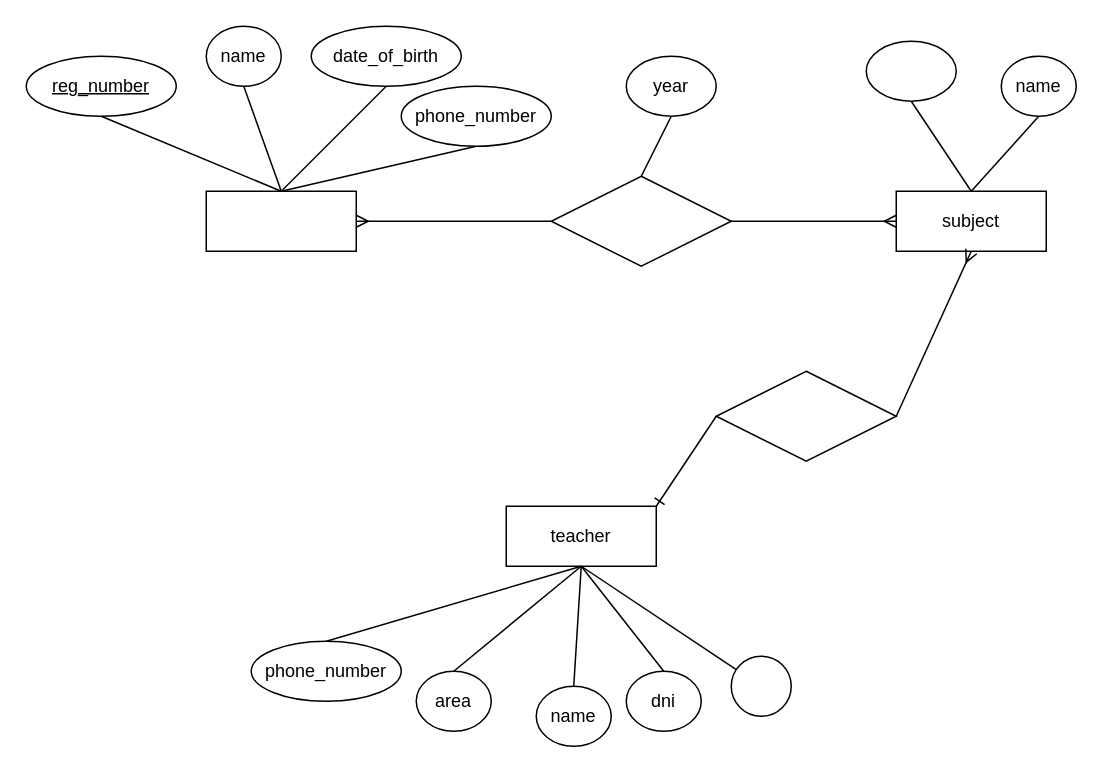
Image size: 1103x773. Some labels were removed from this diagram. Each missing label, with the centre of its shape:
"code" goes at (x=910, y=70).
"id" goes at (x=760, y=685).
"is_registered" goes at (x=640, y=220).
"student" goes at (x=280, y=220).
"teaches" goes at (x=805, y=415).
